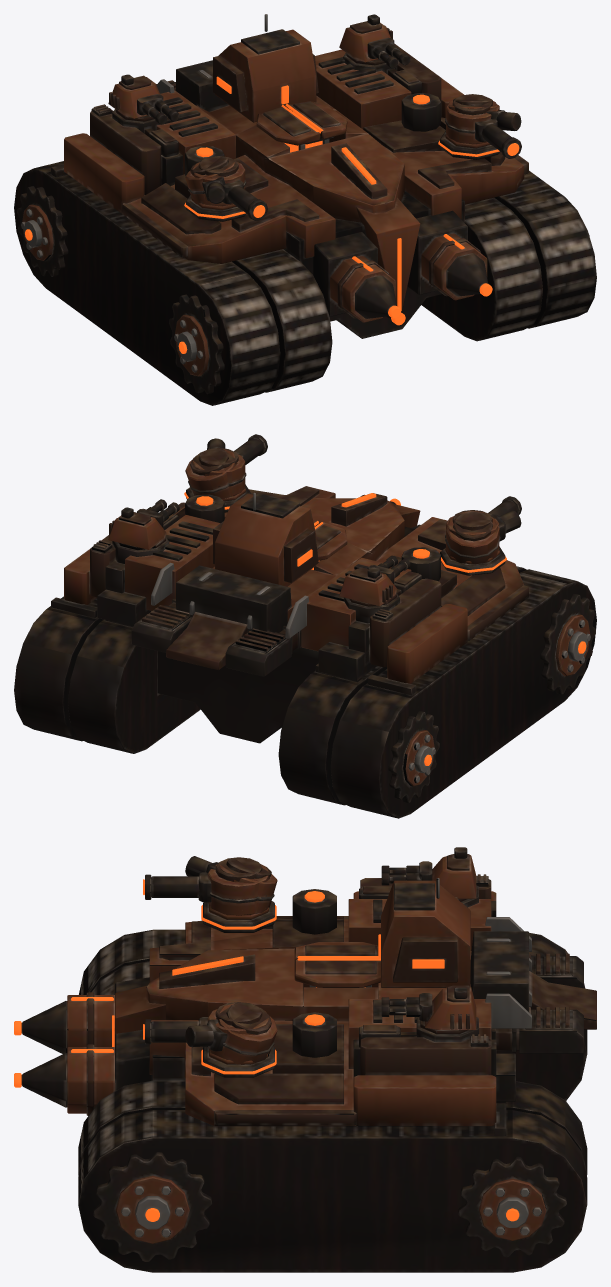
File: bastion-9-v7.glb
3 renders of one model, top to bottom at view 1: azimuth 30°, elevation 25°; view 2: azimuth 150°, elevation 25°; view 3: azimuth 270°, elevation 25°, orthographic. The views are drawn at different scales.
Parts seen in each view (by area): view 1: bastion_hull, bastion_forward_cannon_left, bastion_forward_cannon_right, bastion_sprocket_left, bastion_idler_left, bastion_gun_right, bastion_gun_left, bastion_core_shutter_a, bastion_battery_left_wreck, bastion_battery_right_wreck, bastion_core_shutter_b, bastion_battery_left (+1 smaller); view 2: bastion_hull, bastion_sprocket_left, bastion_idler_left, bastion_battery_left_wreck, bastion_battery_right_wreck, bastion_gun_right, bastion_gun_left, bastion_core_shutter_a, bastion_battery_left, bastion_track_link_left_1, bastion_track_link_right_1; view 3: bastion_hull, bastion_sprocket_right, bastion_idler_right, bastion_forward_cannon_right, bastion_forward_cannon_left, bastion_gun_left, bastion_battery_right_wreck, bastion_core_shutter_b, bastion_gun_right, bastion_battery_left_wreck, bastion_battery_left, bastion_core_shutter_a (+1 smaller).
Part boxes in pixels (bbox=[...]): bastion_hull: bbox=[14, 14, 596, 405]; bastion_forward_cannon_left: bbox=[313, 232, 400, 322]; bastion_forward_cannon_right: bbox=[407, 210, 492, 300]; bastion_sprocket_left: bbox=[169, 294, 224, 394]; bastion_idler_left: bbox=[17, 186, 68, 276]; bastion_gun_right: bbox=[445, 94, 521, 158]; bastion_gun_left: bbox=[192, 156, 267, 220]; bastion_core_shutter_a: bbox=[256, 104, 320, 145]; bastion_battery_left_wreck: bbox=[184, 156, 242, 220]; bastion_battery_right_wreck: bbox=[440, 98, 521, 159]; bastion_core_shutter_b: bbox=[285, 101, 347, 139]; bastion_battery_left: bbox=[184, 195, 246, 221]; bastion_hull: bbox=[14, 486, 596, 818]; bastion_sprocket_left: bbox=[540, 594, 595, 694]; bastion_idler_left: bbox=[388, 711, 439, 802]; bastion_battery_left_wreck: bbox=[441, 510, 521, 575]; bastion_battery_right_wreck: bbox=[185, 438, 249, 512]; bastion_gun_right: bbox=[192, 434, 267, 497]; bastion_gun_left: bbox=[445, 496, 521, 553]; bastion_core_shutter_a: bbox=[314, 522, 347, 560]; bastion_battery_left: bbox=[440, 546, 506, 575]; bastion_track_link_left_1: bbox=[367, 674, 416, 695]; bastion_track_link_right_1: bbox=[51, 597, 97, 618]; bastion_hull: bbox=[78, 847, 596, 1272]; bastion_sprocket_right: bbox=[93, 1152, 212, 1261]; bastion_idler_right: bbox=[458, 1156, 566, 1257]; bastion_forward_cannon_right: bbox=[14, 1029, 152, 1115]; bastion_forward_cannon_left: bbox=[14, 977, 149, 1053]; bastion_gun_left: bbox=[143, 857, 269, 915]; bastion_battery_right_wreck: bbox=[185, 1002, 277, 1077]; bastion_core_shutter_b: bbox=[294, 958, 380, 987]; bastion_gun_right: bbox=[143, 1002, 268, 1058]; bastion_battery_left_wreck: bbox=[185, 856, 277, 932]; bastion_battery_left: bbox=[201, 901, 276, 932]; bastion_core_shutter_a: bbox=[294, 942, 380, 960].
Bounding box in the file's own units: 8.36 × 5 × 8.99.
2 materials, 1 textured.
